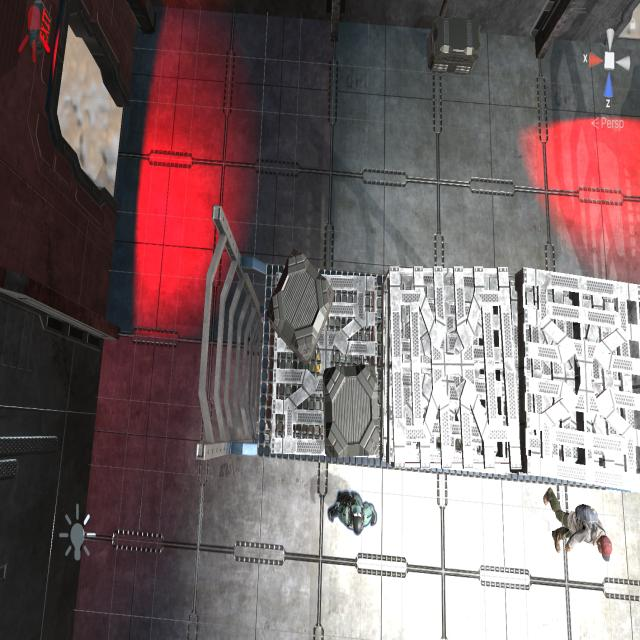thiefs: (539, 484, 617, 570)
